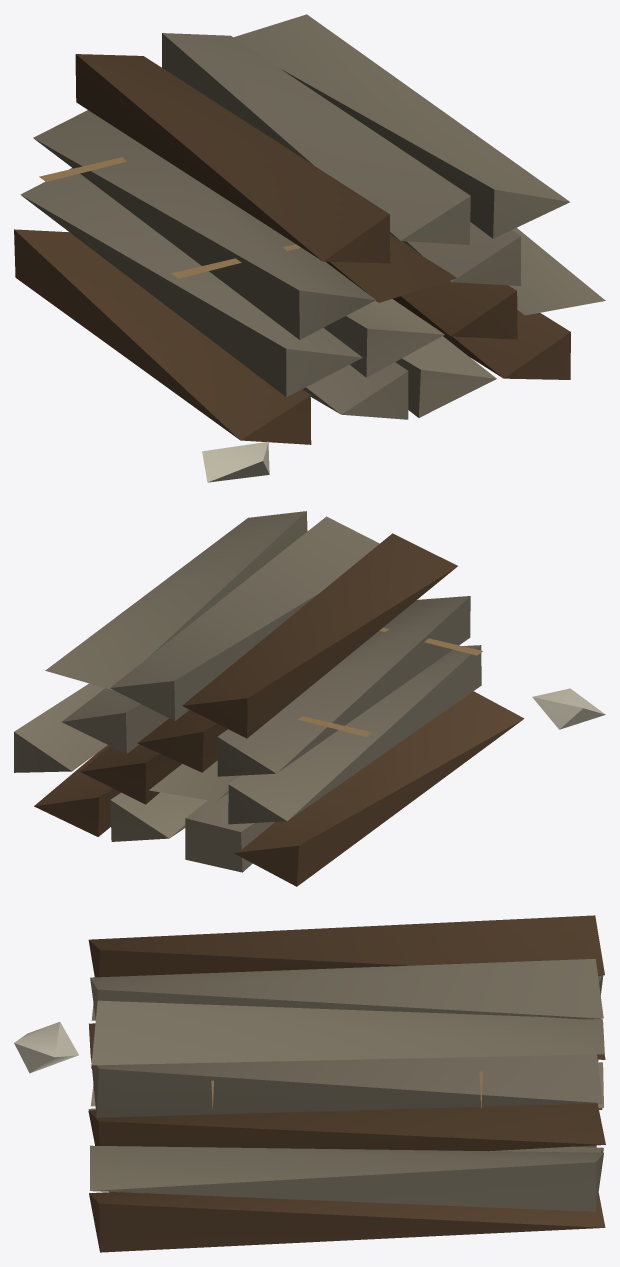
Rendered from timber_ties_a_lod2.glb.
3 renders of one model, top to bottom at view 1: azimuth 30°, elevation 25°; view 2: azimuth 150°, elevation 25°; view 3: azimuth 270°, elevation 25°, orthographic. The views are drawn at different scales.
Visible parts, largest first — view 1: Surface.001; view 2: Surface.001; view 3: Surface.001.
Part boxes in pixels (x1,y1,x2,y2): Surface.001: [14, 14, 605, 482]; Surface.001: [14, 511, 605, 886]; Surface.001: [14, 915, 605, 1252].
Size of the model in its own units: 3 by 1.41 by 3.53.
